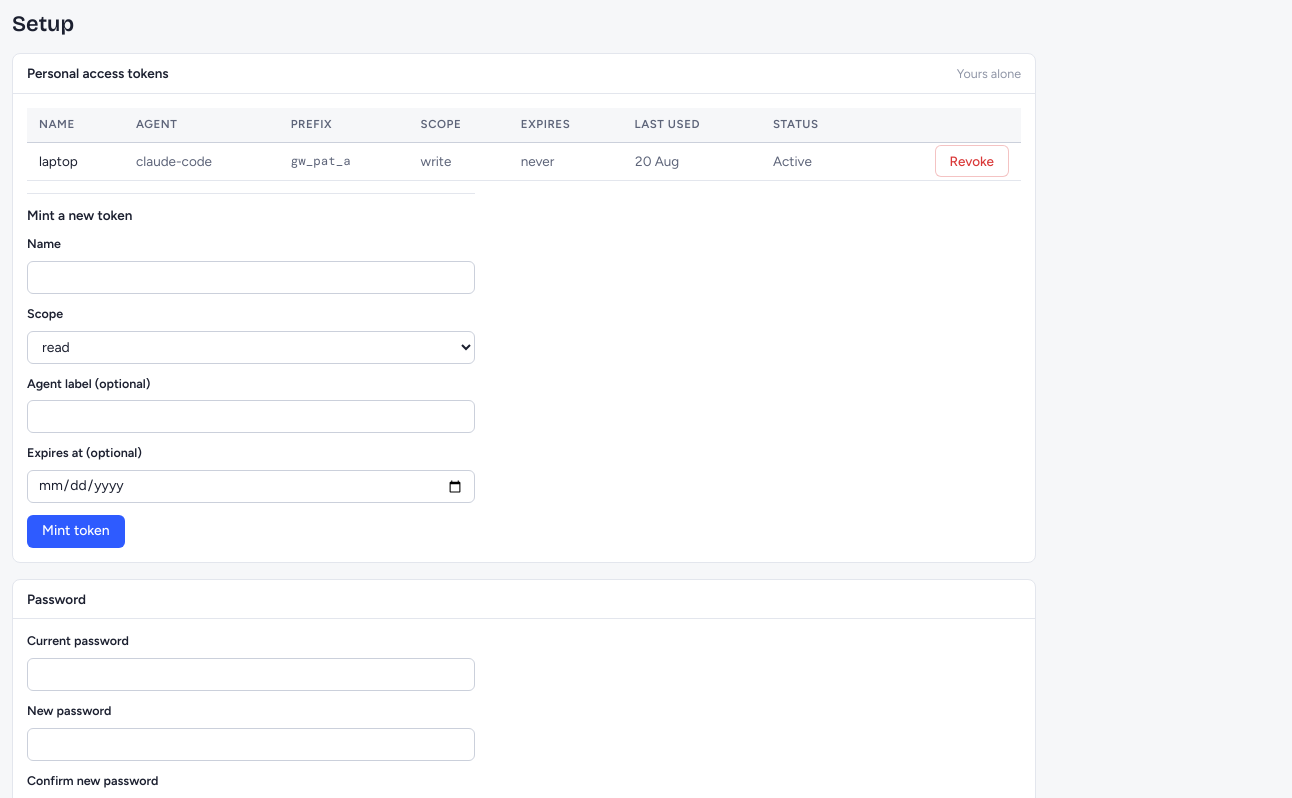
SetupPage › Personal access tokens › revokes a token through a confirmation step, and the Status column says so
This screenshot has width=1292, height=798.
expect the cell with test id "access-token-status-token-1" reads "Active": met, box [773, 153, 812, 169]
Click the button "Revoke".
click(972, 161)  # box [934, 145, 1009, 177]
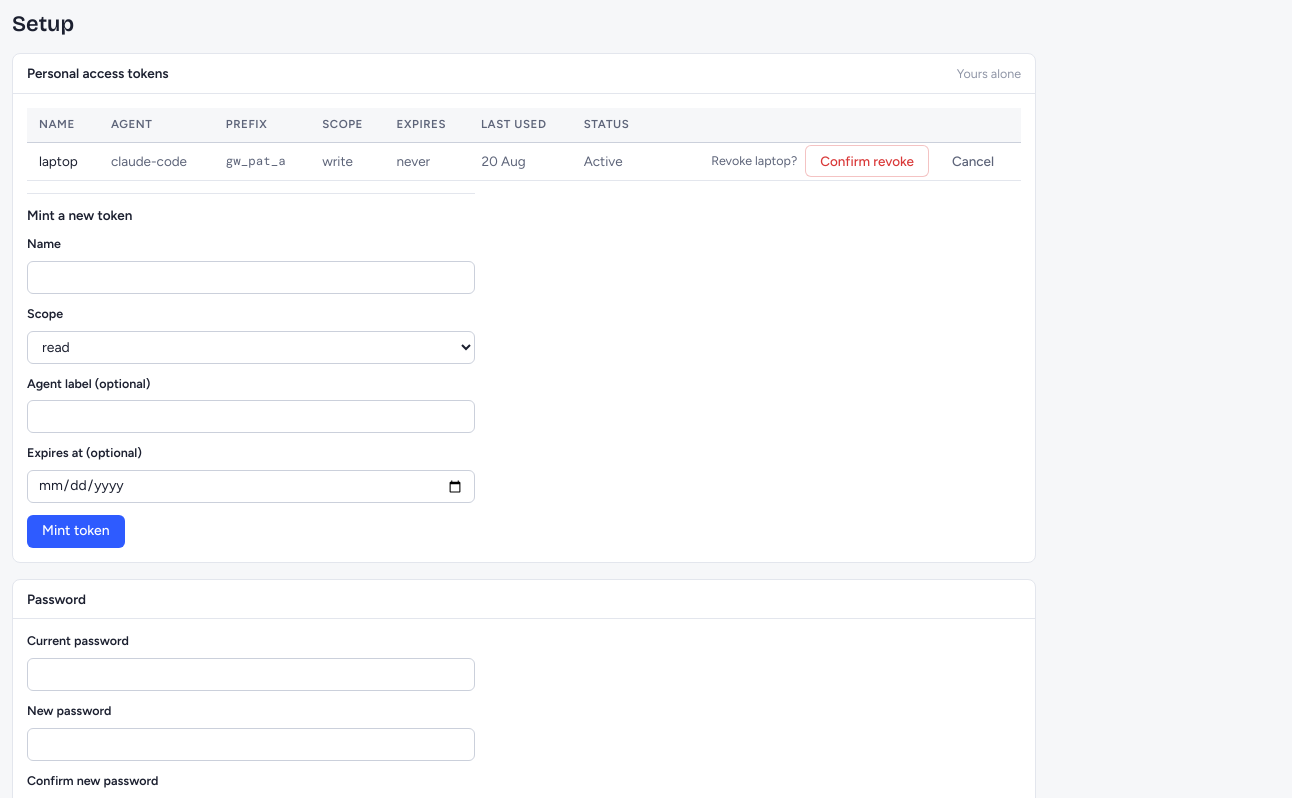
Click the button "Confirm revoke".
click(867, 161)  # box [805, 145, 929, 177]
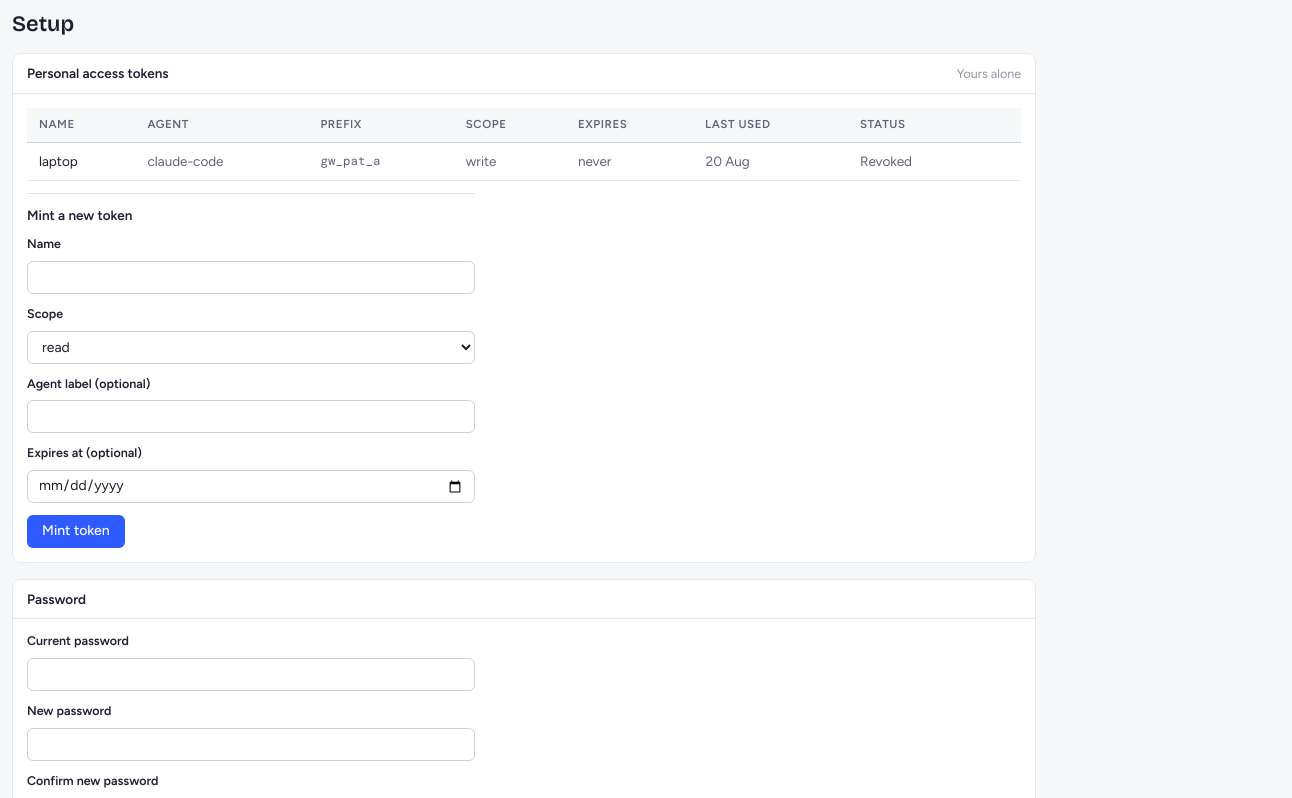
expect the cell with test id "access-token-status-token-1" reads "Revoked": met, box [860, 153, 912, 169]
